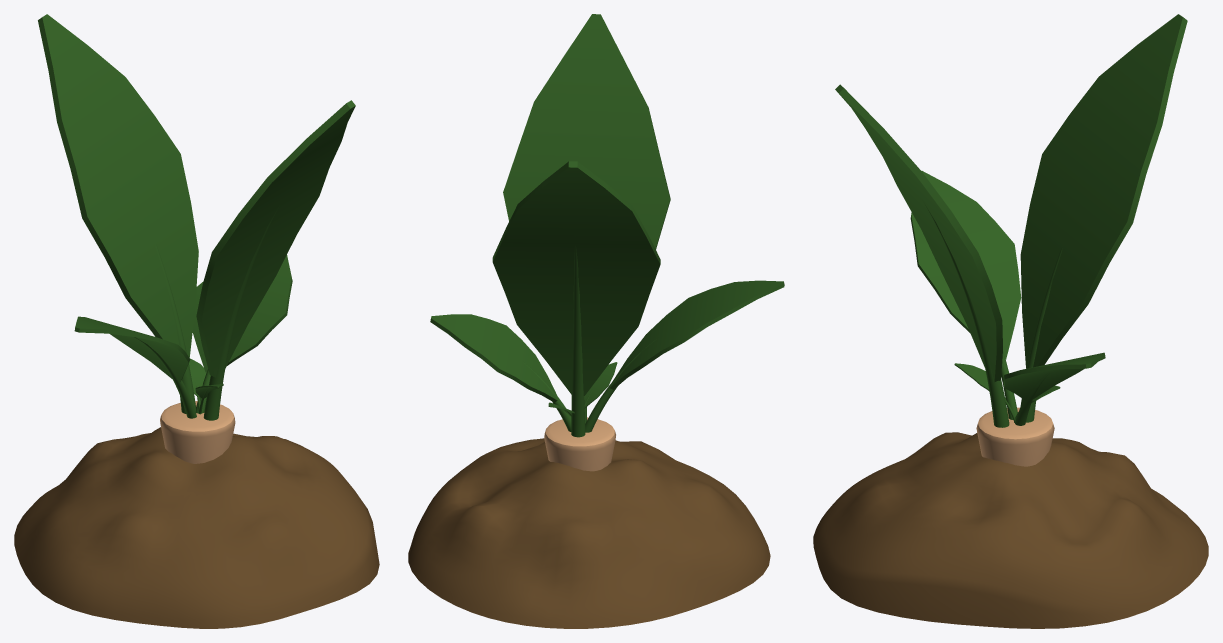
The model's file is CARROT_full_grow.fbx.
3 views of the same model, side by side, from view 1: azimuth 30°, elevation 25°; view 2: azimuth 150°, elevation 25°; view 3: azimuth 270°, elevation 25° (orthographic). The views are drawn at different scales.
Visible parts, largest first — view 1: pSphere14; view 2: pSphere14; view 3: pSphere14.
Part boxes in pixels (x1,y1,x2,y2): pSphere14: (14, 14, 379, 628); pSphere14: (408, 14, 784, 628); pSphere14: (813, 14, 1208, 628).
Size of the model in its own units: 0.9368 by 1.38 by 0.9833.
